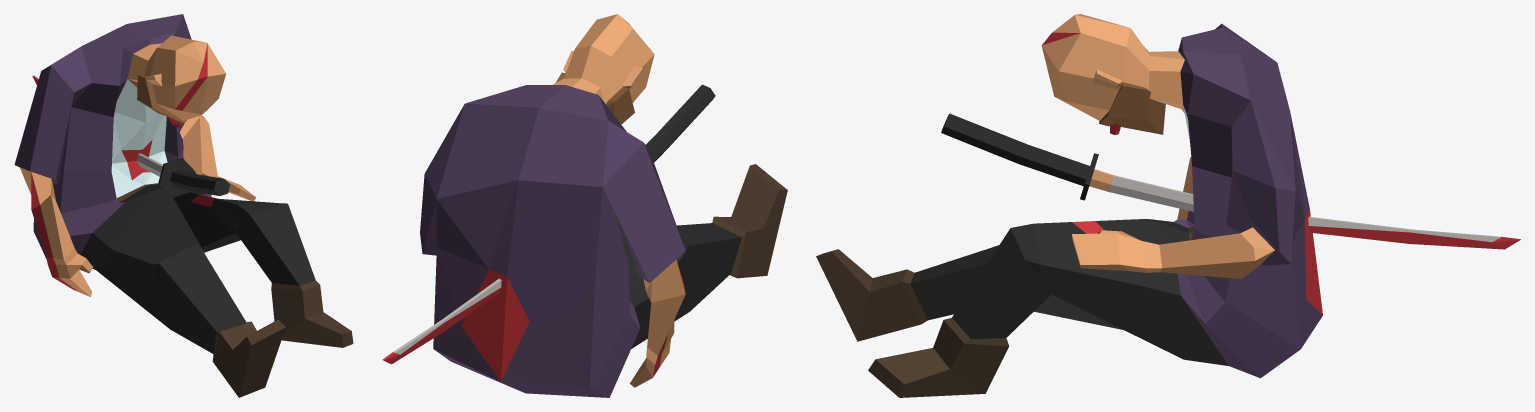
Rendered from apocalypse_man-pedestrian-rival-dead-a.fbx.
The picture shows the model from 3 angles, left to right: view 1: azimuth 30°, elevation 25°; view 2: azimuth 150°, elevation 25°; view 3: azimuth 270°, elevation 25°; orthographic projection. The views are drawn at different scales.
Visible parts, largest first — view 1: apocalypse_man_pedestrian_rival_dead_a; view 2: apocalypse_man_pedestrian_rival_dead_a; view 3: apocalypse_man_pedestrian_rival_dead_a.
Boxes of the visible parts, <box> form: apocalypse_man_pedestrian_rival_dead_a: <box>14,14,353,397</box>; apocalypse_man_pedestrian_rival_dead_a: <box>382,14,787,397</box>; apocalypse_man_pedestrian_rival_dead_a: <box>816,14,1520,397</box>.
Size of the model in its own units: 80.29 by 108 by 200.
